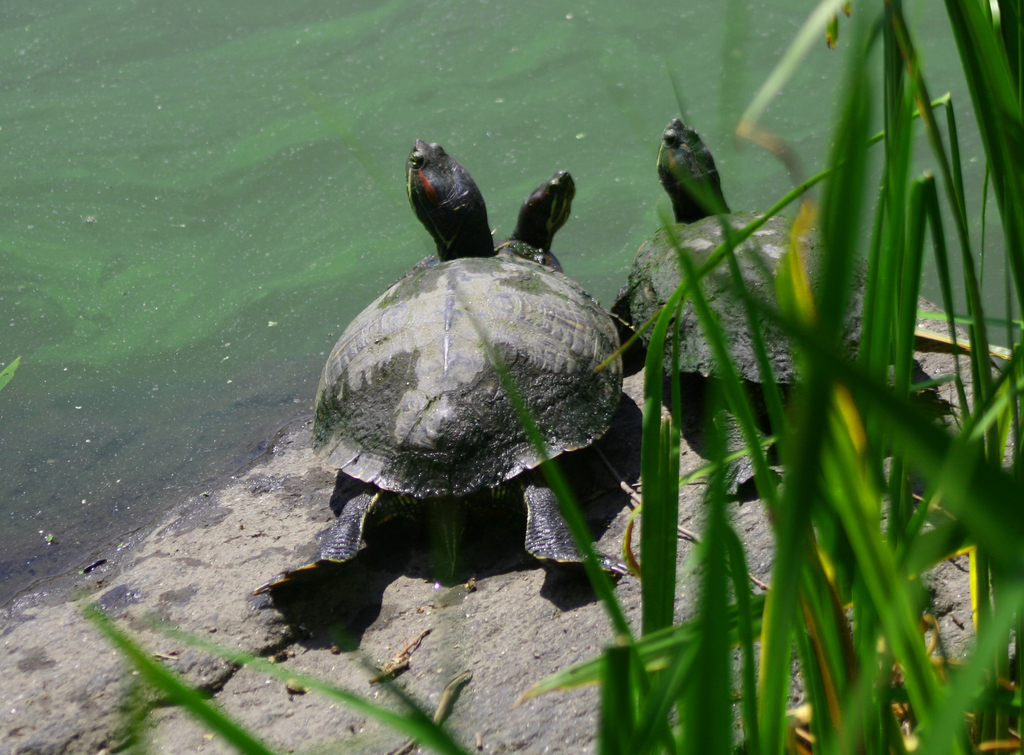Sea turtles: (301, 135, 629, 581), (622, 114, 917, 508), (392, 172, 567, 284)
